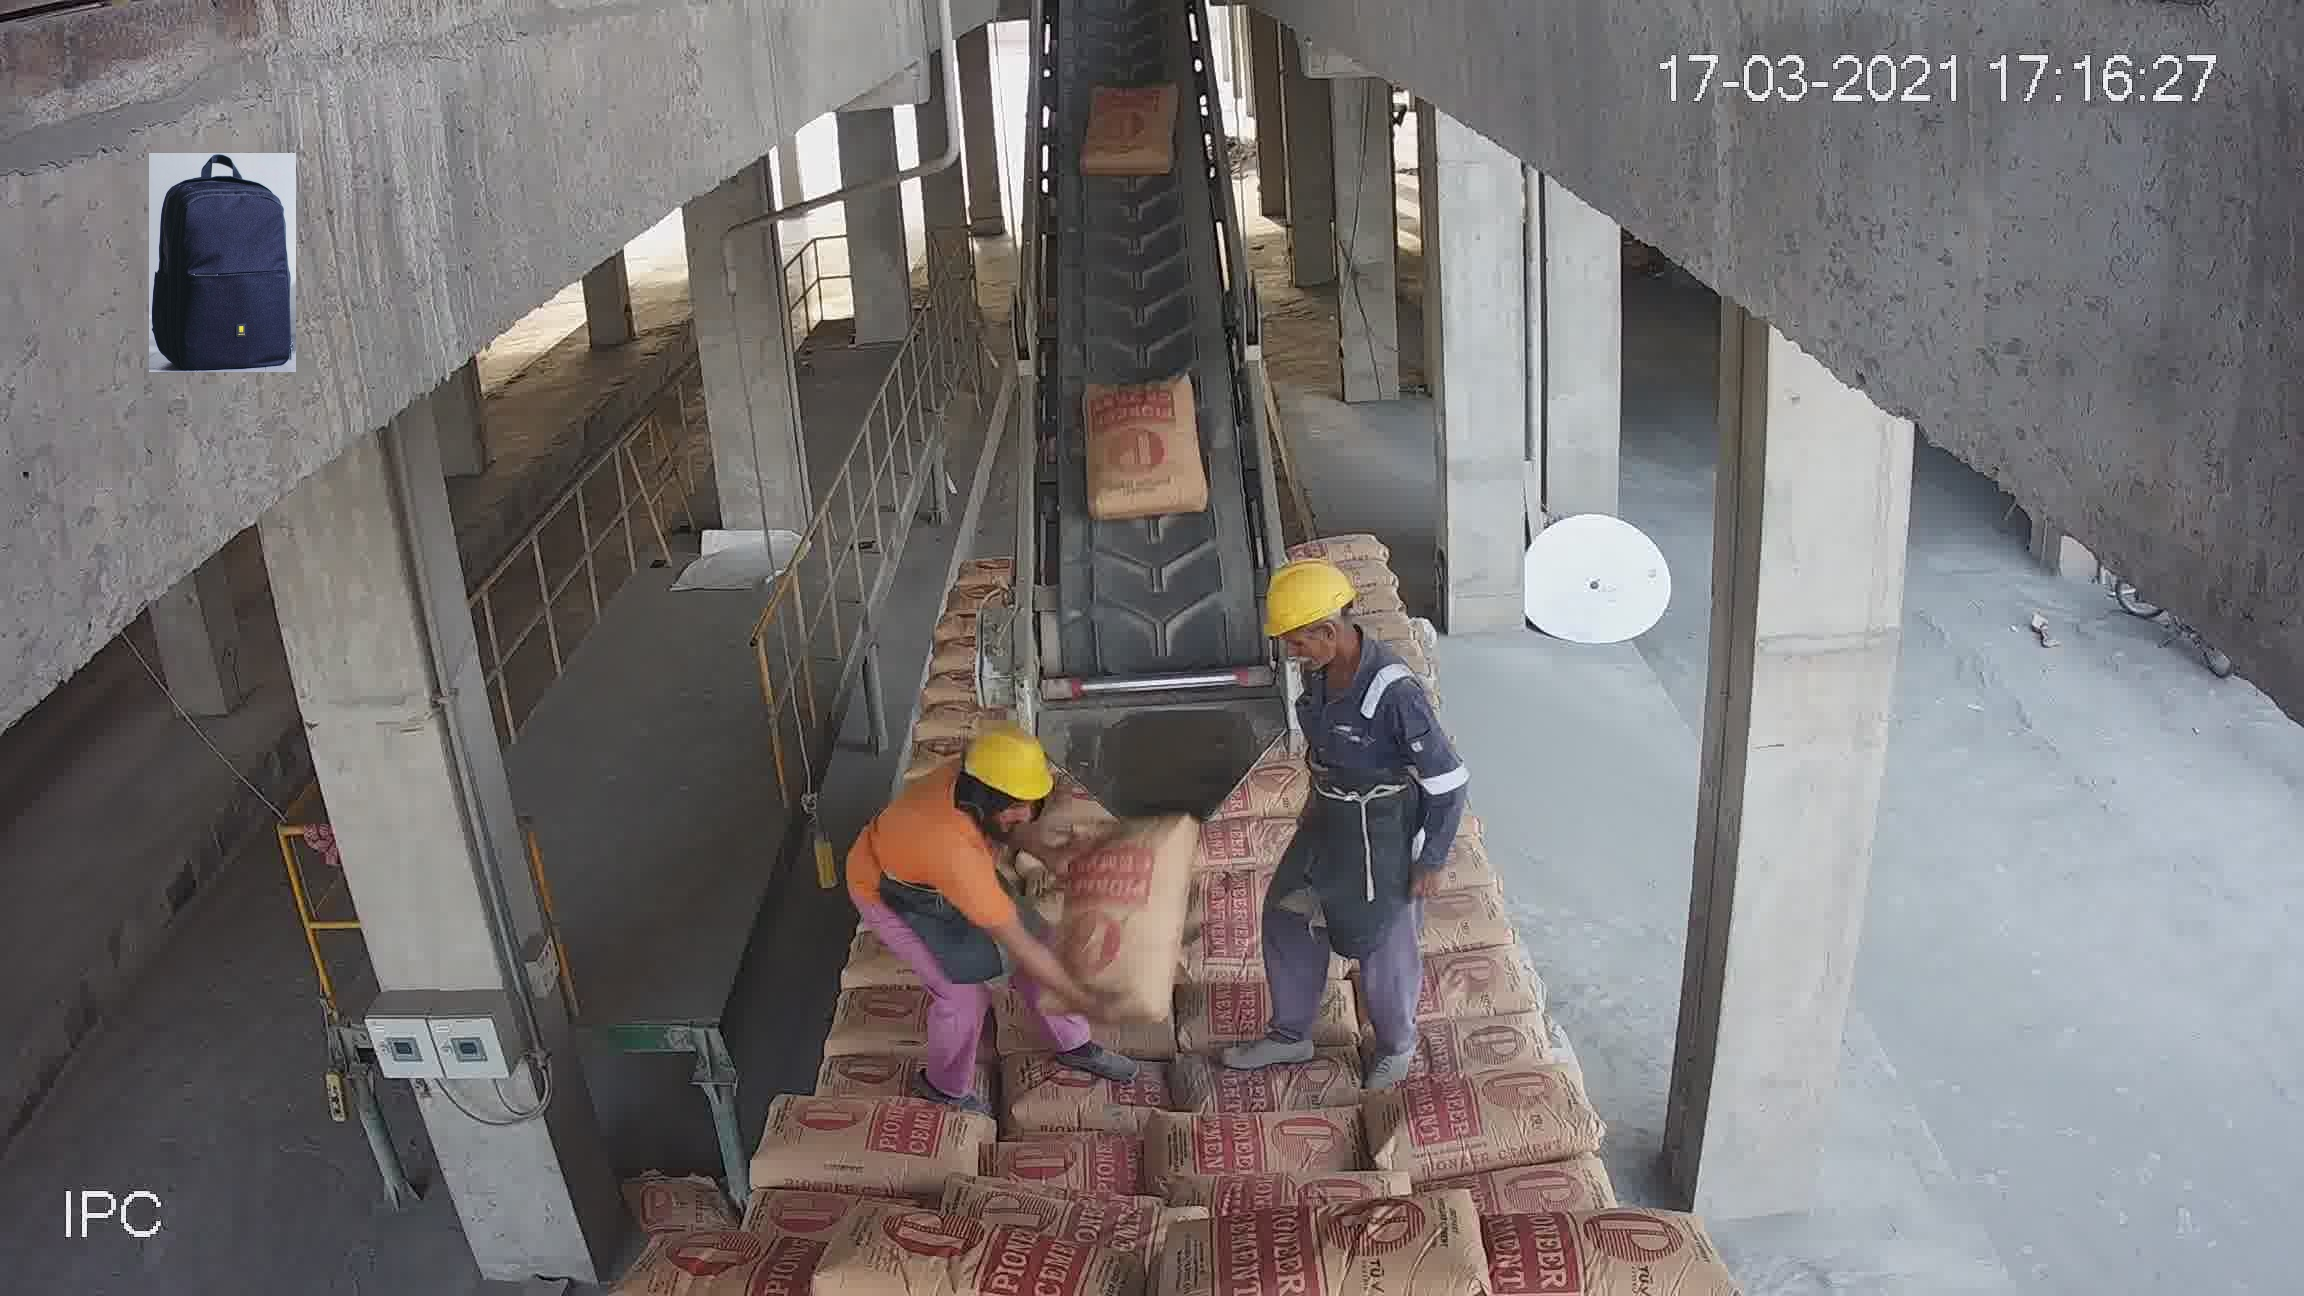bag: (1086, 372, 1199, 521), (1084, 78, 1184, 177)
bag_h: (1192, 1177, 1532, 1294), (1348, 1060, 1605, 1188), (791, 1215, 1131, 1296), (1426, 1196, 1704, 1294), (752, 1097, 999, 1193), (1152, 1105, 1378, 1199), (1173, 1032, 1367, 1119), (635, 1225, 855, 1294), (1013, 1041, 1185, 1119), (798, 1040, 973, 1109), (991, 1139, 1163, 1207), (1415, 946, 1540, 1036), (1416, 1003, 1570, 1074), (821, 983, 937, 1062), (1176, 980, 1288, 1043), (1188, 812, 1298, 875)
bag_v: (1052, 809, 1201, 1014)
belt: (1013, 6, 1287, 780)
